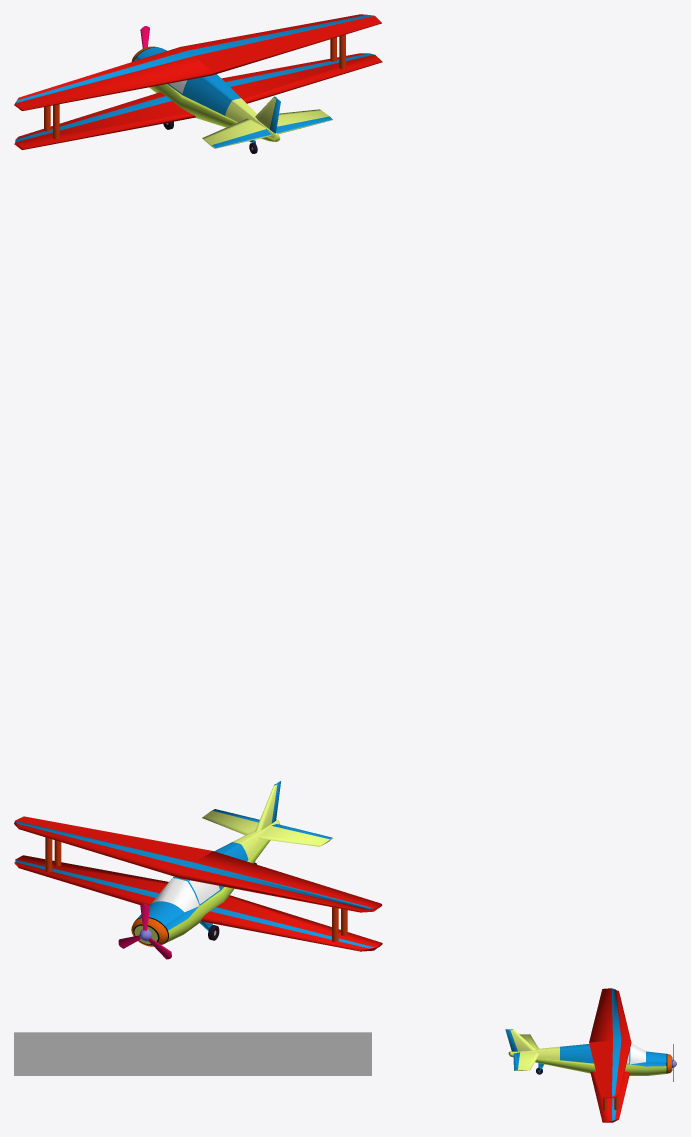
3 views of the same model, one above another, from view 1: azimuth 30°, elevation 25°; view 2: azimuth 150°, elevation 25°; view 3: azimuth 270°, elevation 25° (orthographic). The views are drawn at different scales.
Parts seen in each view (by area): view 1: wings, wings2, backSideWings, cabin2.002, cabin2.001, Cylinder.003; view 2: wings, wings2, backSideWings, windows, cabin2.001, Cylinder.003, cabin2, propeller; view 3: Plane, wings, cabin2.001, wings2, cabin2.002, backSideWings, backWings, cabin2.003, cabin2, windows.
Part boxes in pixels (x1=…): wings: x1=14, y1=14, x2=381, y2=110; wings2: x1=14, y1=53, x2=382, y2=149; backSideWings: x1=202, y1=109, x2=332, y2=148; cabin2.002: x1=183, y1=74, x2=240, y2=115; cabin2.001: x1=149, y1=84, x2=280, y2=141; Cylinder.003: x1=44, y1=34, x2=345, y2=139; wings: x1=14, y1=816, x2=382, y2=912; wings2: x1=14, y1=855, x2=382, y2=951; backSideWings: x1=202, y1=809, x2=332, y2=846; windows: x1=151, y1=878, x2=219, y2=912; cabin2.001: x1=163, y1=820, x2=279, y2=944; Cylinder.003: x1=45, y1=837, x2=347, y2=942; cabin2: x1=136, y1=902, x2=199, y2=930; propeller: x1=118, y1=904, x2=171, y2=959; Plane: x1=14, y1=1032, x2=371, y2=1075; wings: x1=589, y1=988, x2=631, y2=1098; cabin2.001: x1=508, y1=1051, x2=666, y2=1075; wings2: x1=590, y1=1071, x2=629, y2=1122; cabin2.002: x1=560, y1=1044, x2=593, y2=1063; backSideWings: x1=513, y1=1034, x2=539, y2=1070; backWings: x1=505, y1=1029, x2=535, y2=1051; cabin2.003: x1=510, y1=1046, x2=559, y2=1060; cabin2: x1=630, y1=1051, x2=666, y2=1066; windows: x1=626, y1=1043, x2=645, y2=1064.
Size of the model in its own units: 14.33 by 3.34 by 36.81.
